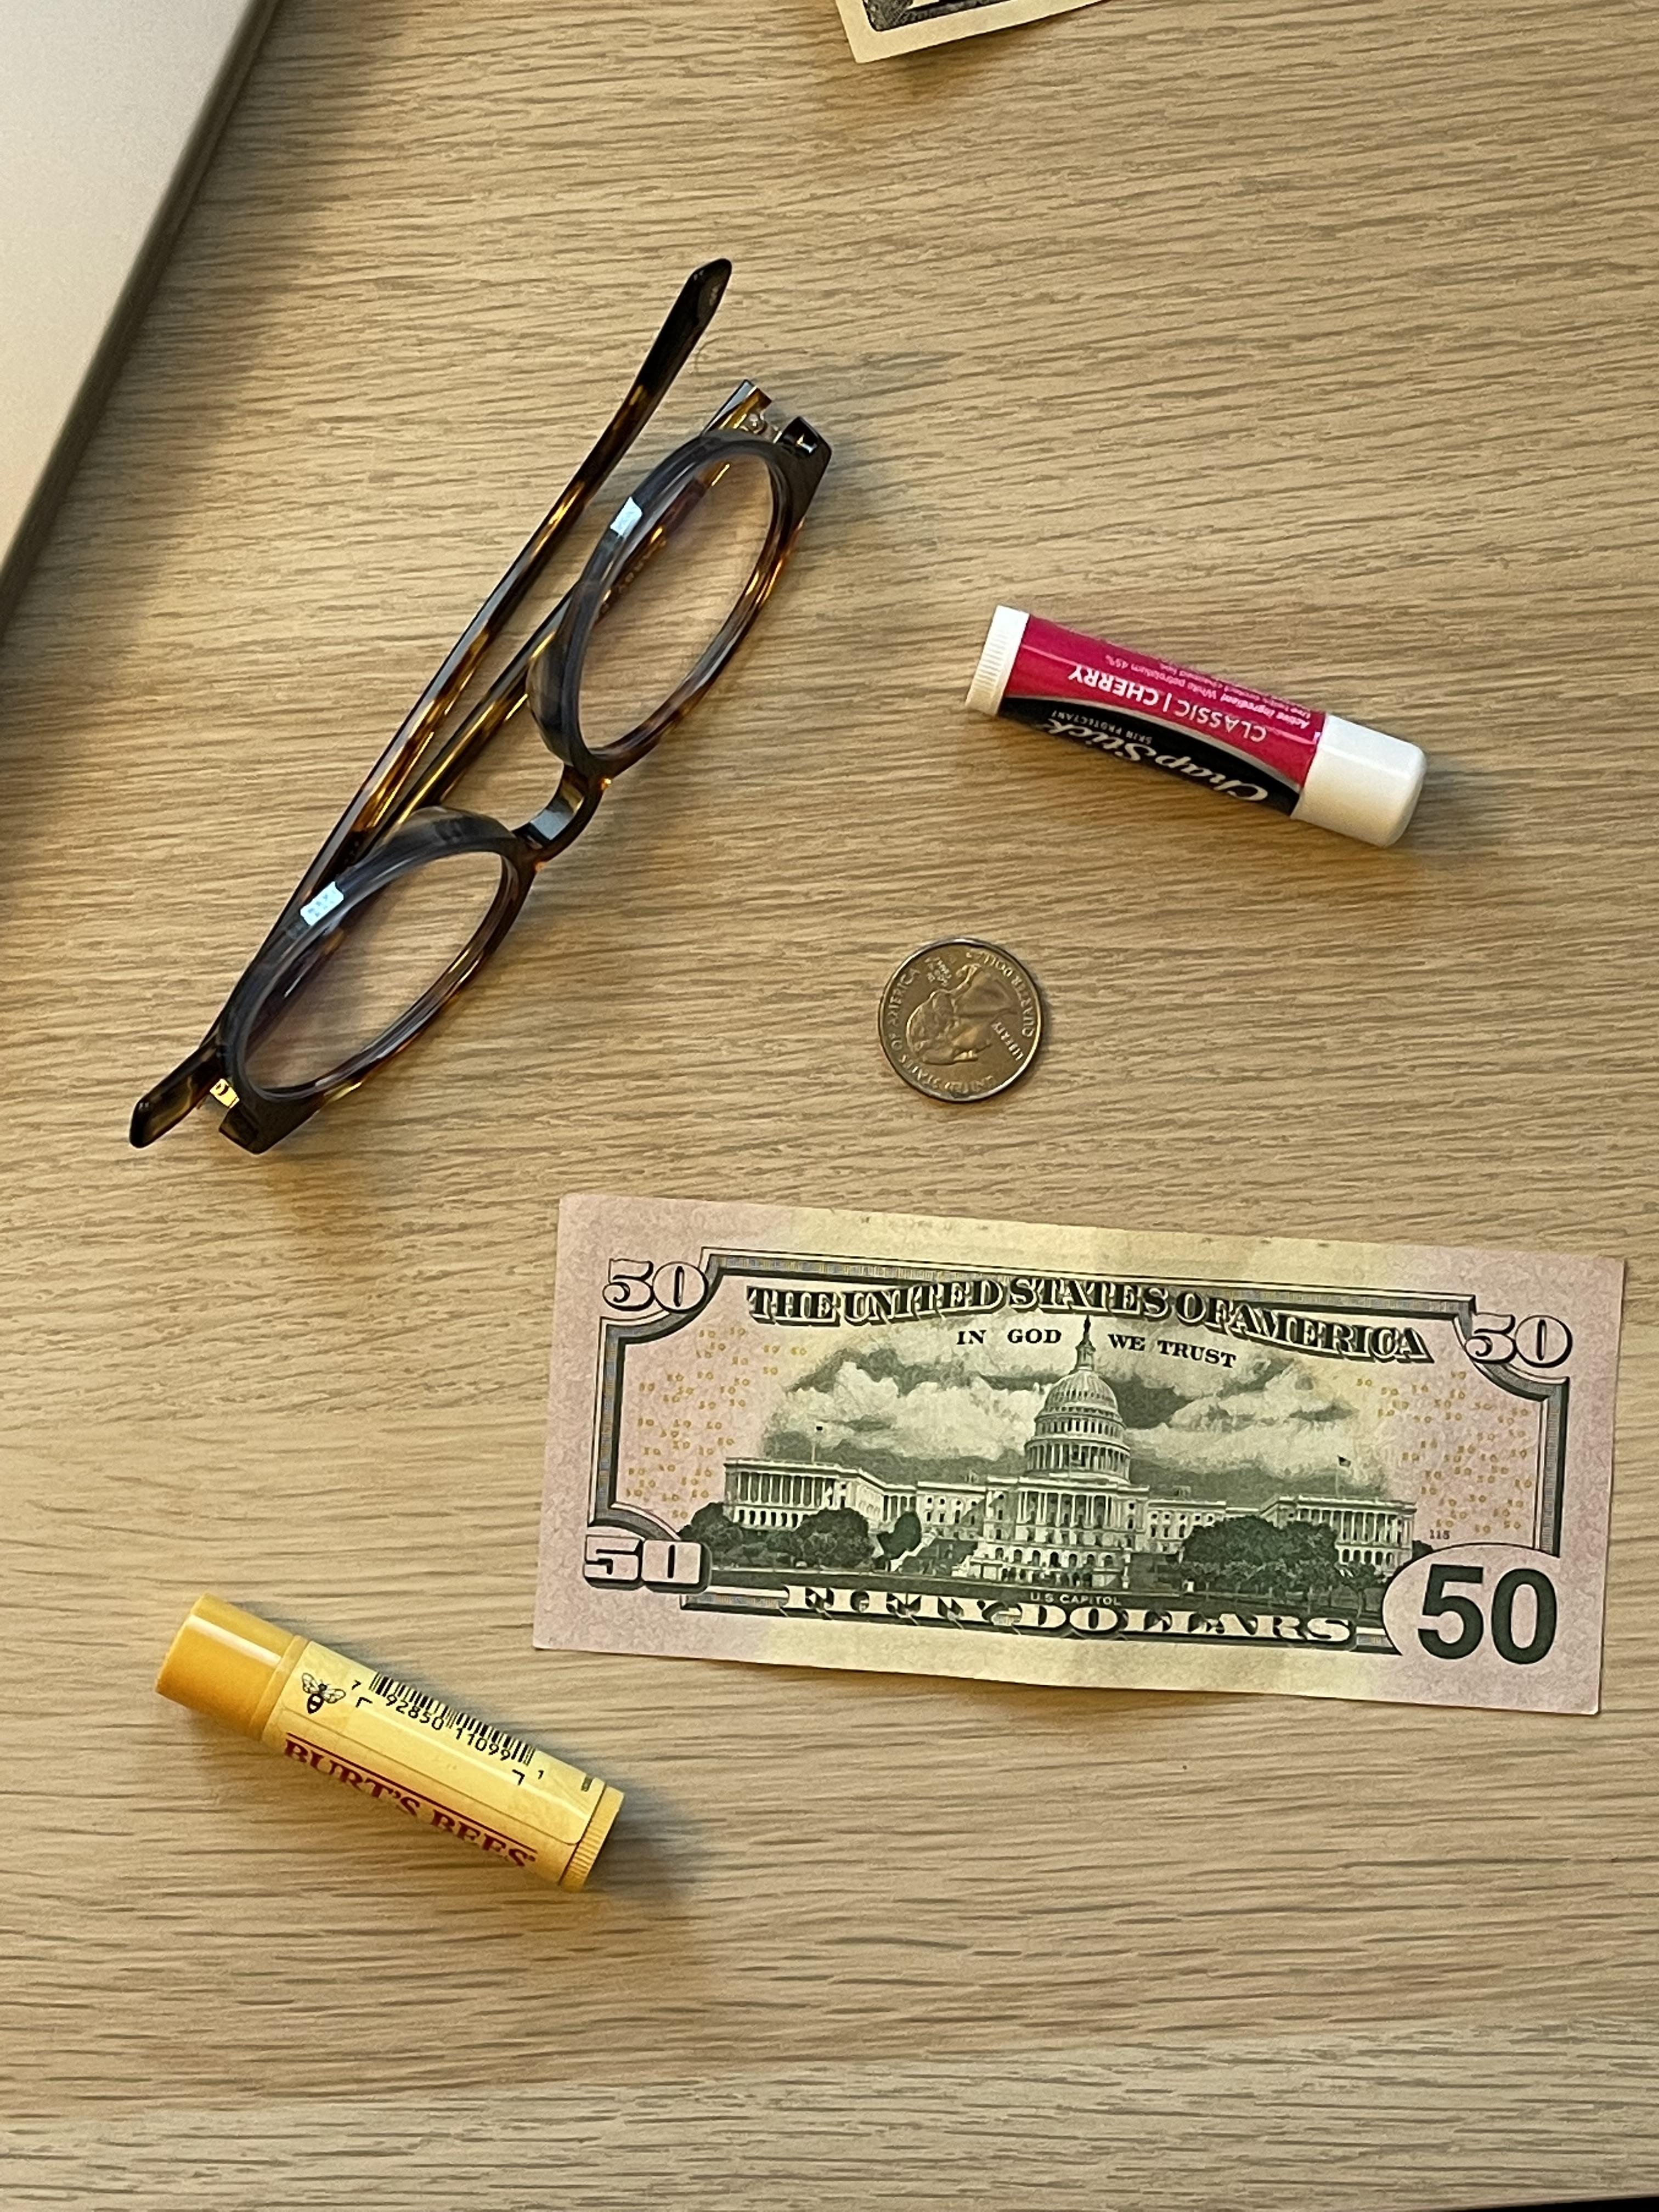FiftyBill: (530, 1193, 1629, 1721)
Quarter: (877, 937, 1042, 1106)
